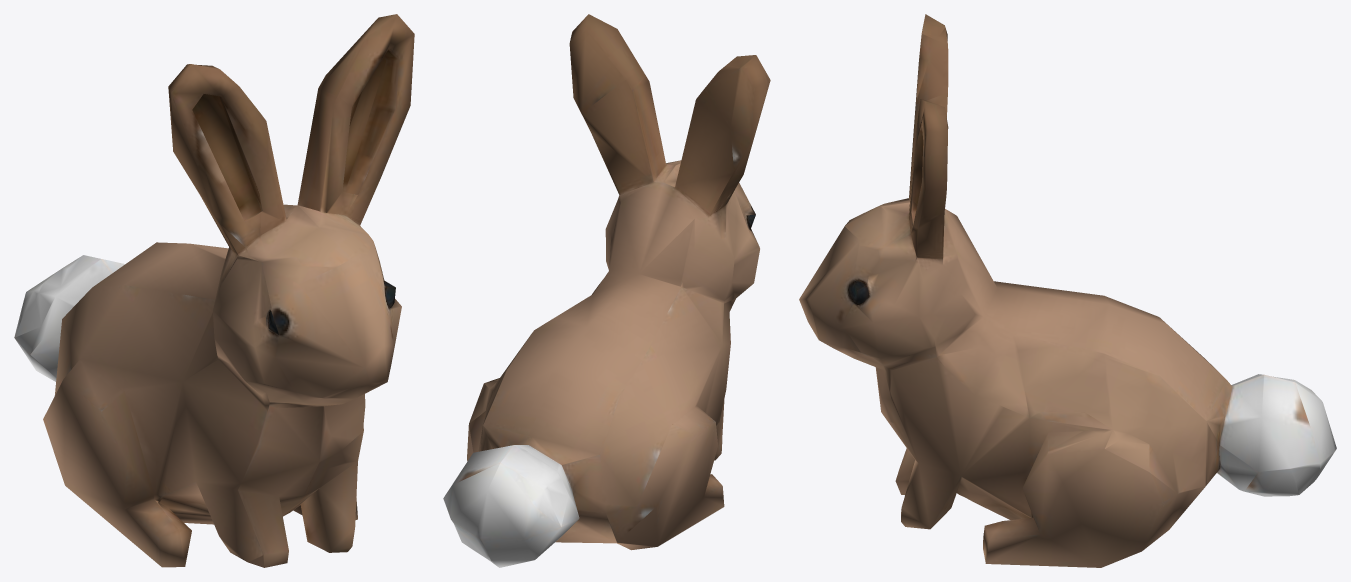
The model's file is rabbit.glb.
3 views of the same model, side by side, from view 1: azimuth 30°, elevation 25°; view 2: azimuth 150°, elevation 25°; view 3: azimuth 270°, elevation 25° (orthographic). The views are drawn at different scales.
Parts seen in each view (by area): view 1: node_0; view 2: node_0; view 3: node_0.
Part boxes in pixels (x1,y1,x2,y2): node_0: (14, 14, 414, 567); node_0: (443, 14, 770, 567); node_0: (799, 14, 1336, 567).
Size of the model in its own units: 0.4807 by 0.9478 by 0.9948.
Materials: 1 (1 with a texture image).
